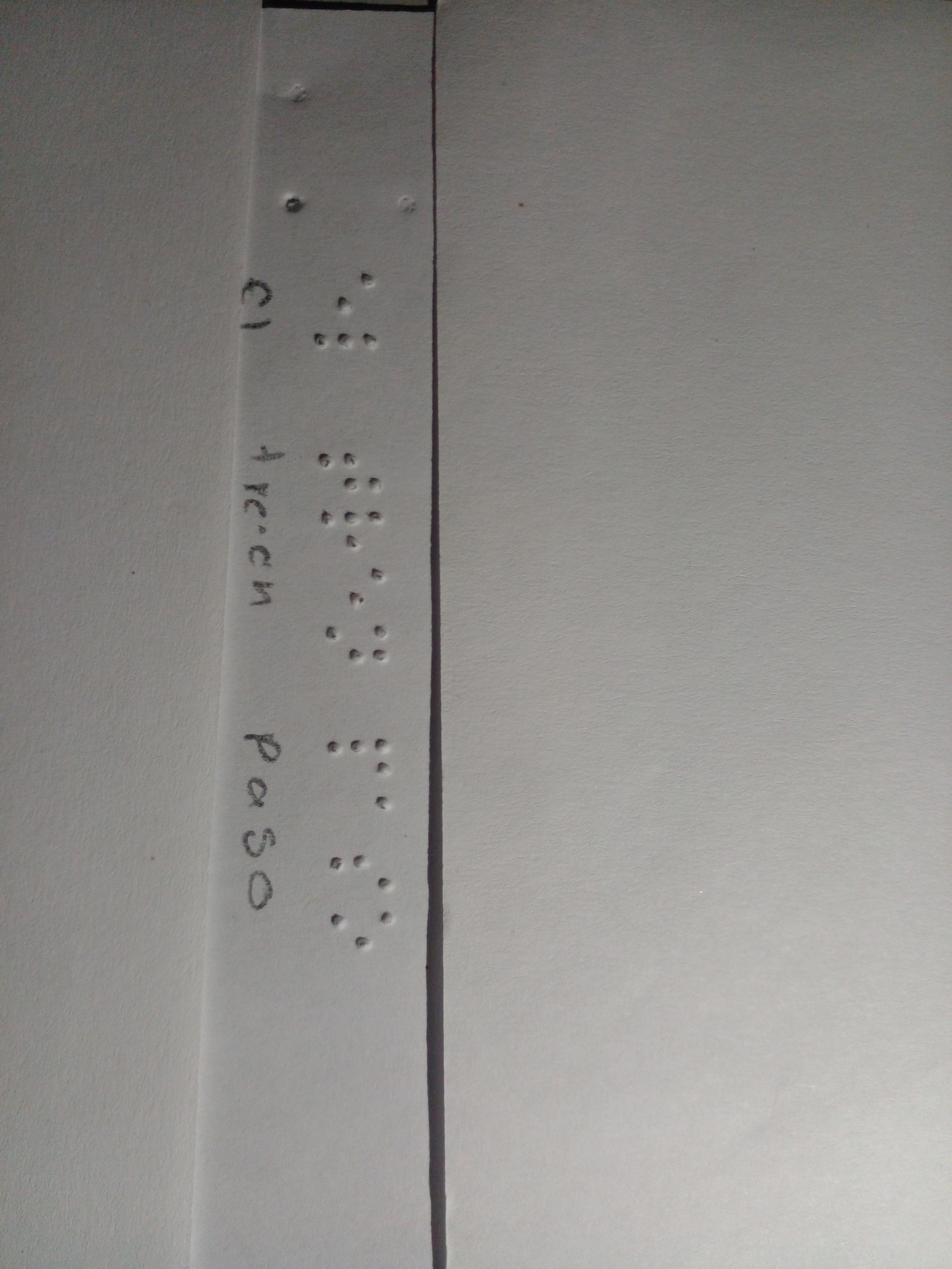a: (363, 785, 400, 821)
e: (310, 259, 384, 322), (310, 567, 404, 613)
l: (301, 321, 390, 359)
n: (315, 621, 397, 671)
o: (321, 898, 394, 957)
p: (322, 731, 397, 781)
r: (304, 510, 390, 562)
s: (319, 838, 400, 895)
t: (304, 440, 404, 502)
